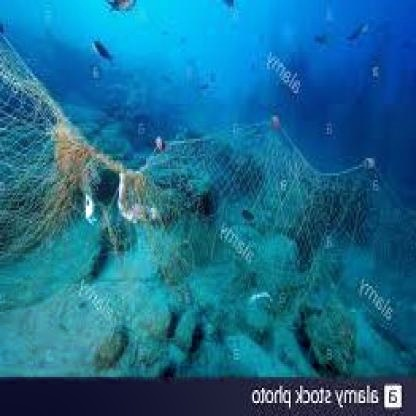net: (127, 114, 395, 339), (0, 27, 102, 266)
